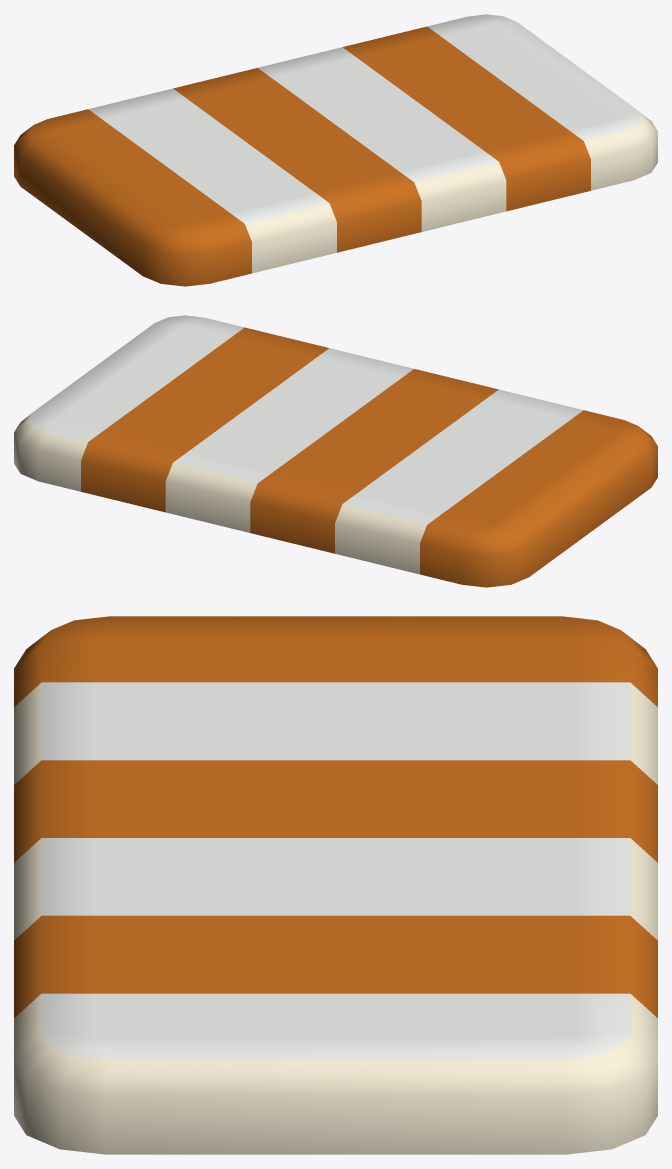
The model's file is itch_tiny_homely_house_doormat.glb.
3 views of the same model, one above another, from view 1: azimuth 30°, elevation 25°; view 2: azimuth 150°, elevation 25°; view 3: azimuth 270°, elevation 25° (orthographic). The views are drawn at different scales.
Visible parts, largest first — view 1: doormat; view 2: doormat; view 3: doormat.
Boxes of the visible parts, x1,y1,x2,y2 form: doormat: (14, 14, 657, 286); doormat: (14, 315, 657, 587); doormat: (14, 616, 657, 1154).
Size of the model in its own units: 0.96 by 0.08 by 0.56.
